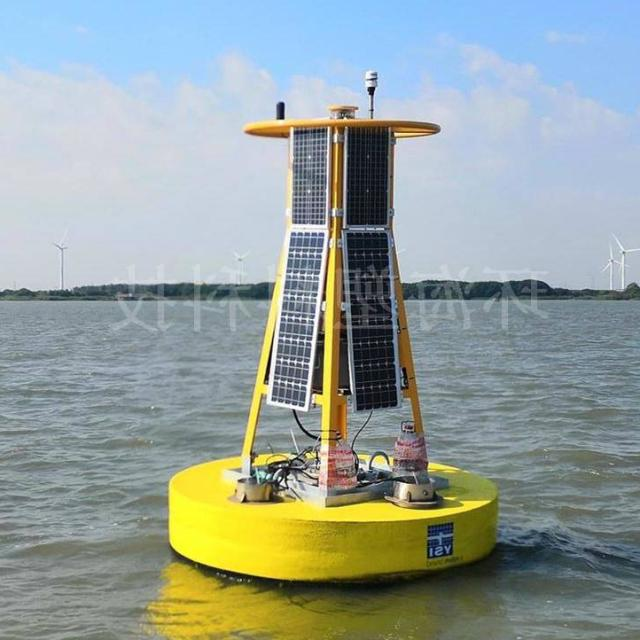buoy: (163, 70, 502, 578)
